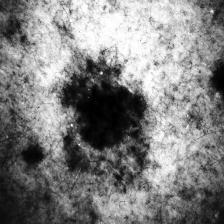Benign Marking or Mole: (46, 40, 163, 185)
